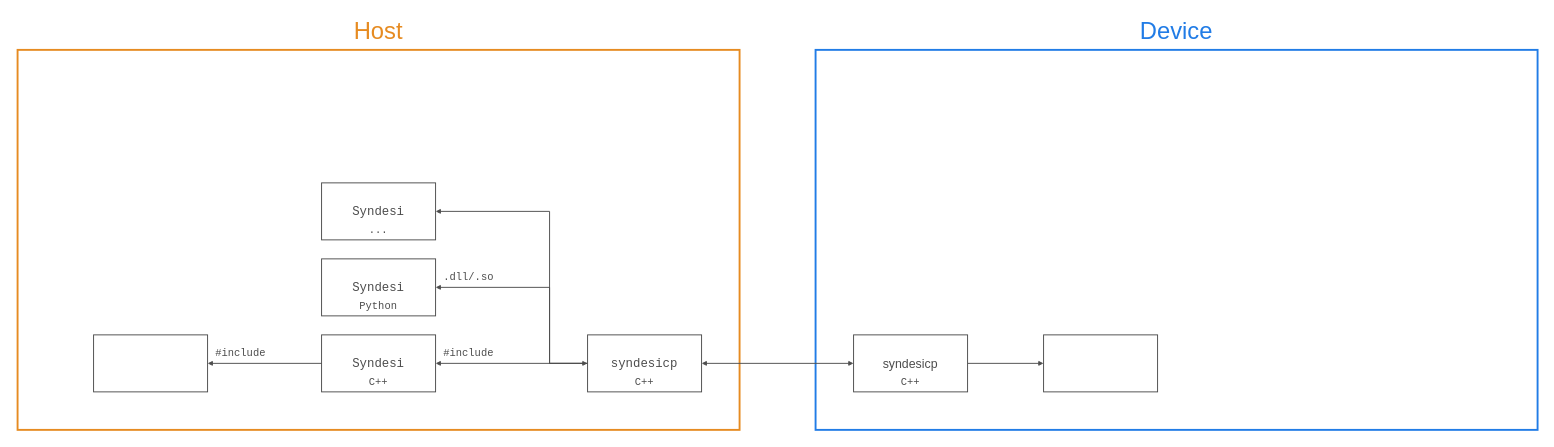
Some shapes in this 1554 by 447 pixel diagram are drawn without their labels. Here are the shapes that lost their labels. From the top down, the centre of each, then its label:
pixel 150 363: Syndesi CLI
pixel 1100 363: Device specific functions
